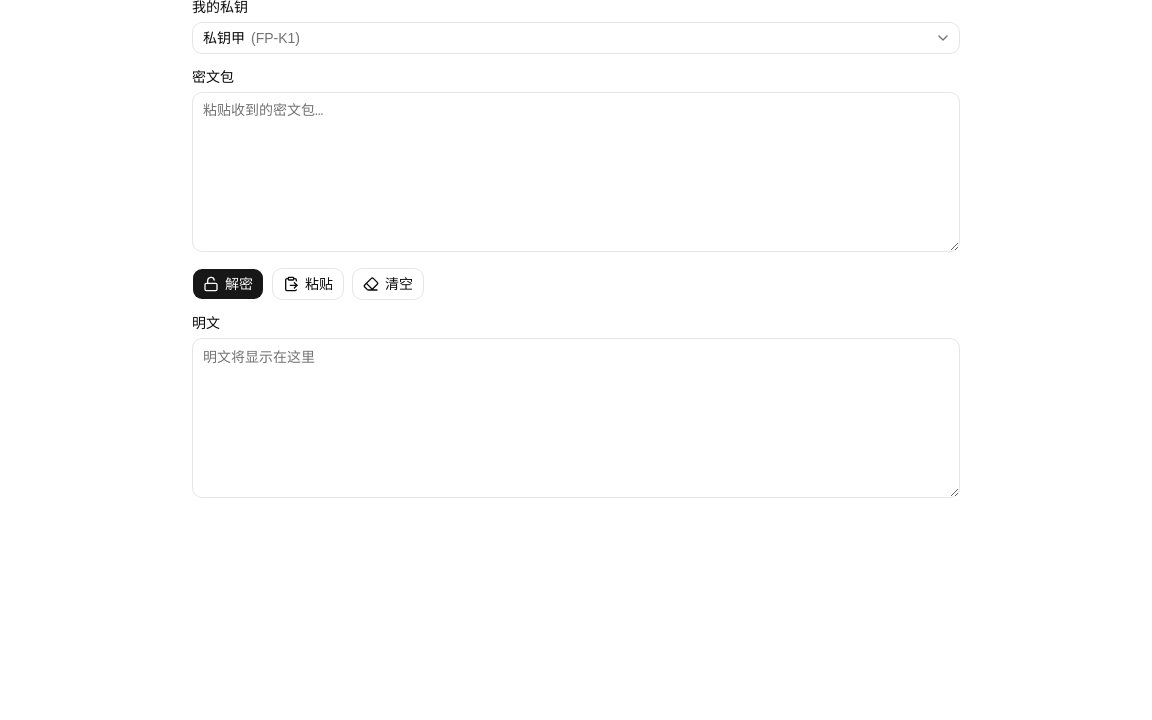
Test: DecryptPage › 无保存密码时经解锁对话框解密
The width and height of the screenshot is (1152, 720).
Expected: the dropdown reads "私钥甲 (FP-K1)", [192,22,960,54]
Type "CIPHER-PACKAGE" into the text box labelled "密文包" at {"x": 576, "y": 172}, box [192,92,960,252]
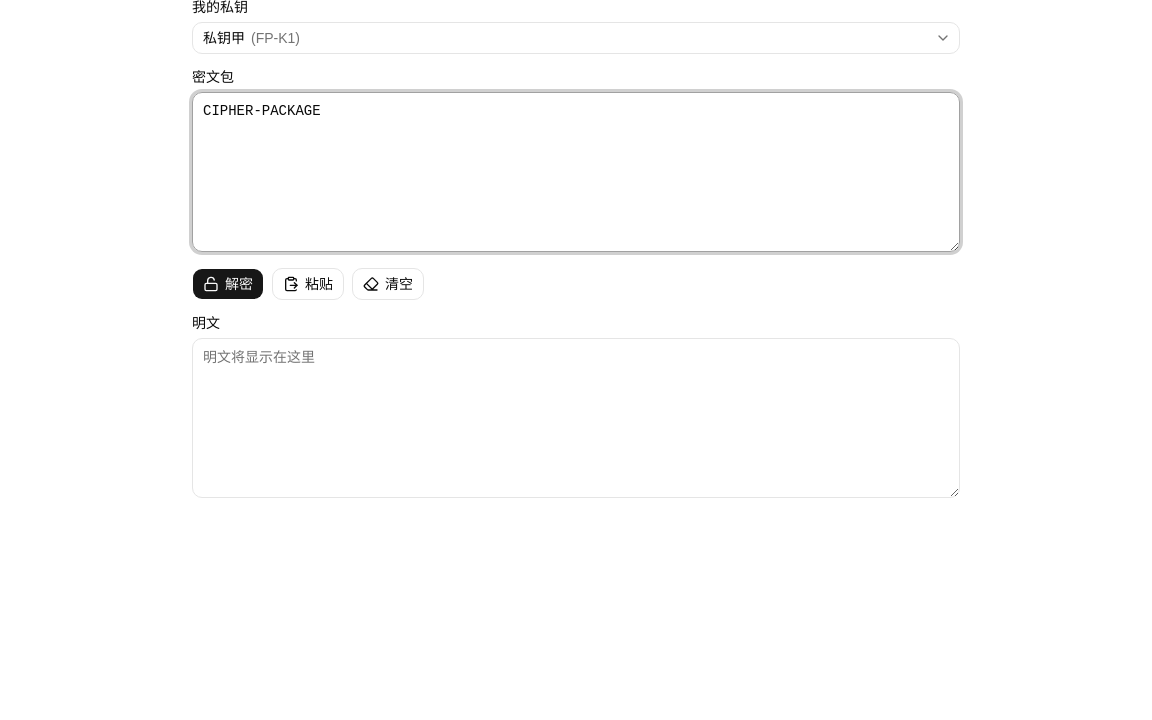
Click the button "解密" at {"x": 228, "y": 284}, box [192,268,264,300]
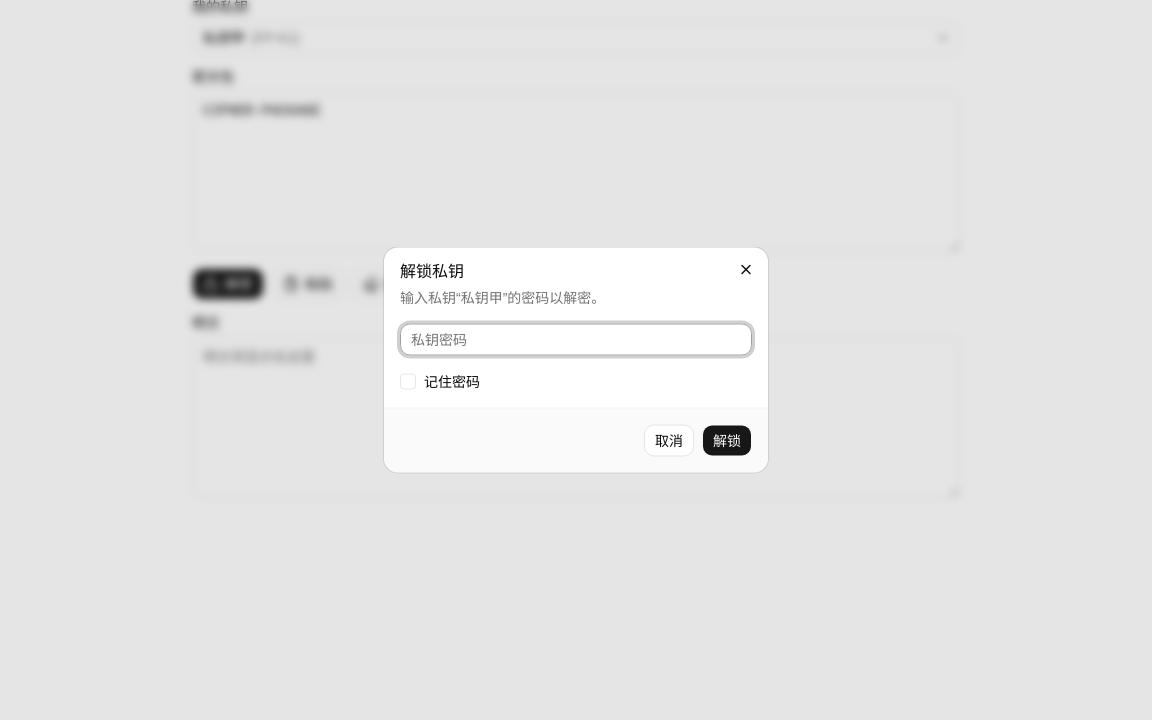
Now the heading "解锁私钥" is shown, box [400,262,464,280]
Type "pw-123" into the password field with placeholder "私钥密码" at {"x": 576, "y": 340}, box [400,324,752,356]
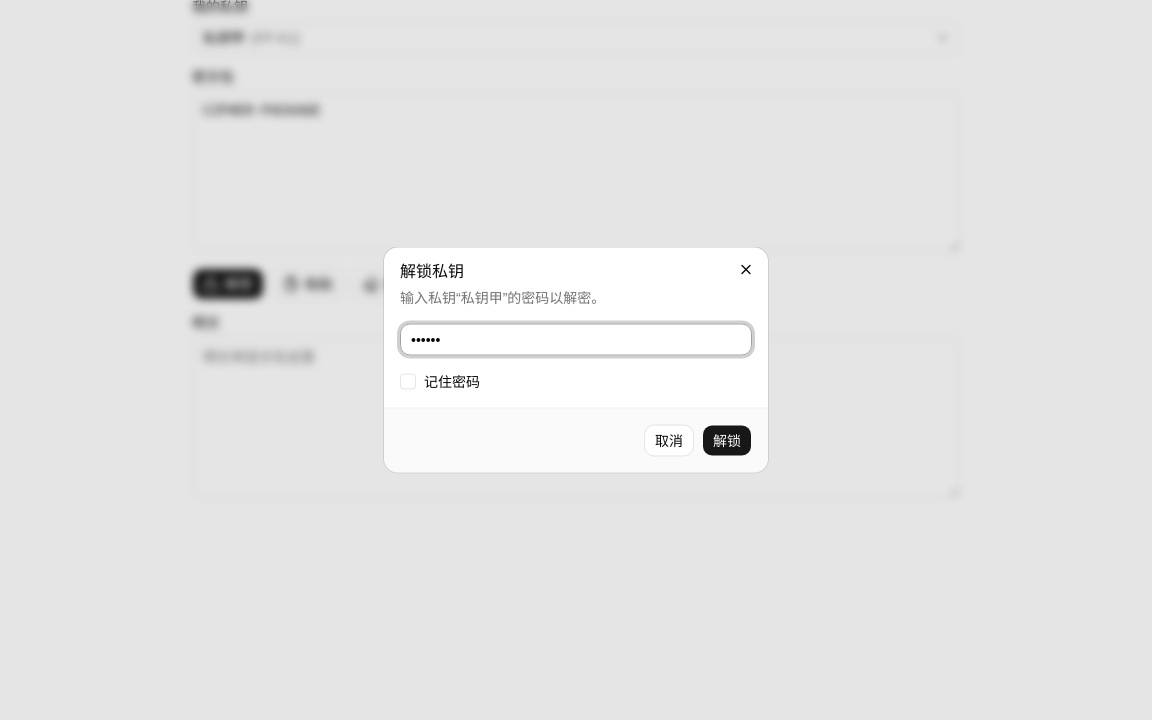
Click the button "解锁" at {"x": 727, "y": 440}, box [702,424,752,456]
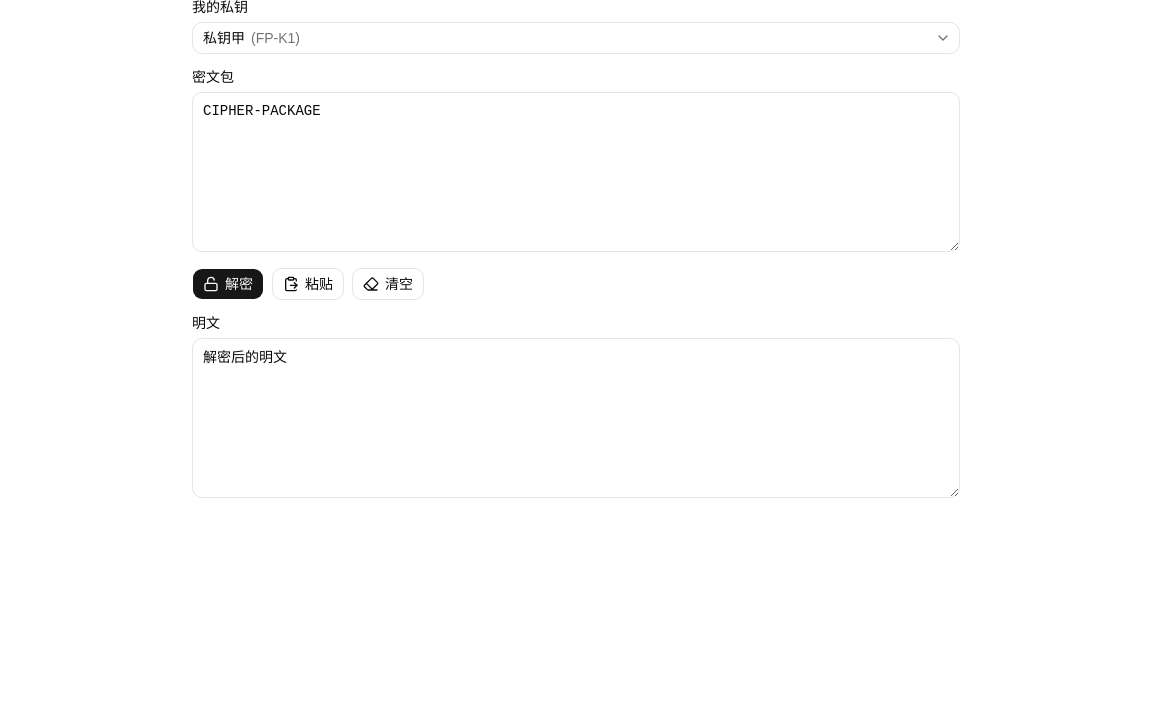
Now the heading "解锁私钥" is gone
